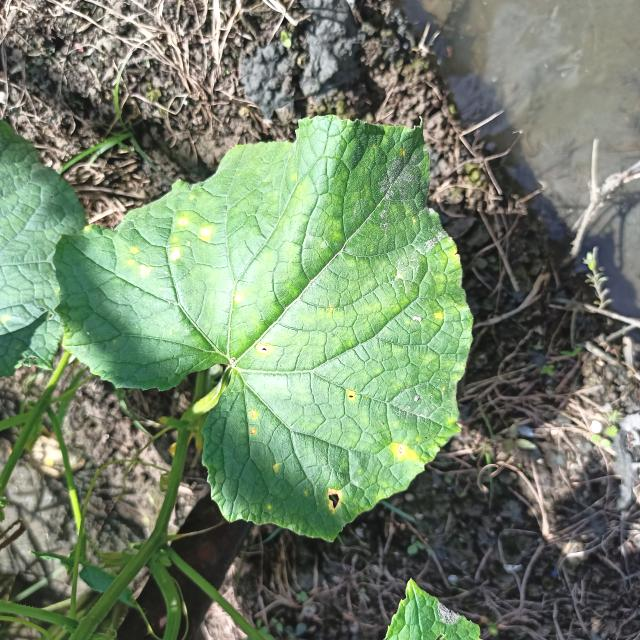disease_cucumber: (125, 212, 215, 280), (322, 482, 346, 515), (390, 439, 420, 463), (248, 405, 259, 436), (256, 339, 274, 356), (232, 290, 246, 304), (343, 389, 356, 400)
